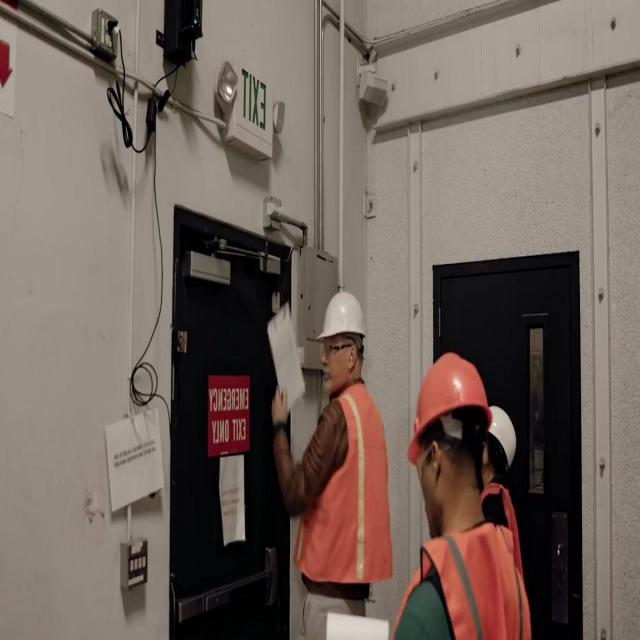Reflective-Jacket: (286, 382, 400, 599), (382, 500, 544, 640)
Safety-Helmet: (400, 337, 498, 472), (311, 279, 373, 359), (480, 394, 524, 482)
